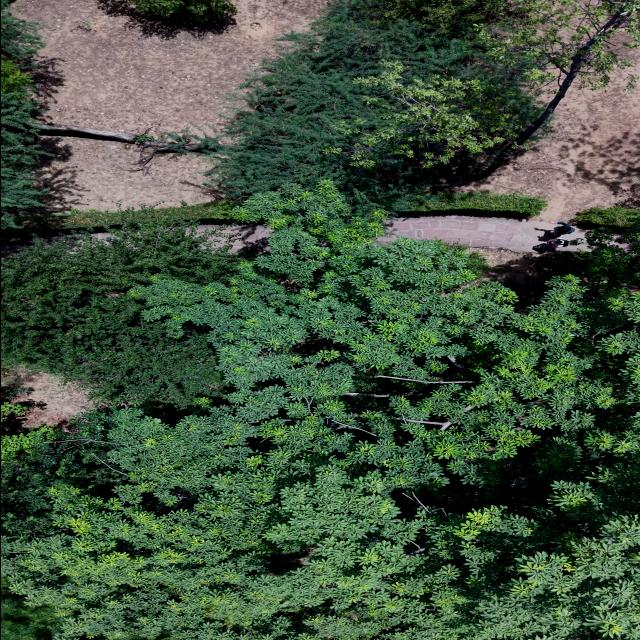DRY_AREA: (389, 51, 639, 308), (462, 50, 639, 309), (12, 0, 326, 133), (13, 0, 326, 133), (462, 50, 639, 220), (378, 212, 573, 303), (379, 213, 561, 310), (378, 214, 566, 307), (379, 215, 561, 310), (378, 215, 561, 309), (380, 216, 556, 308), (378, 215, 561, 303), (501, 92, 639, 207), (390, 217, 558, 308), (378, 215, 560, 299), (379, 213, 561, 266), (379, 213, 566, 257), (379, 215, 565, 256), (380, 215, 566, 256), (379, 216, 555, 256), (380, 216, 552, 251), (476, 248, 562, 310), (1, 370, 93, 427), (233, 0, 325, 39), (196, 224, 272, 254), (1, 232, 56, 259)
PATHWAYS: (379, 216, 565, 253)
VEGETATION_TREE: (1, 0, 639, 639), (1, 183, 639, 639), (4, 410, 638, 639), (3, 0, 638, 225), (1, 0, 627, 227), (135, 185, 633, 458), (201, 0, 635, 210), (209, 4, 531, 197), (1, 8, 203, 227), (389, 0, 638, 176), (1, 229, 239, 405), (322, 60, 532, 168), (1, 409, 121, 539), (1, 411, 119, 539), (477, 0, 639, 93), (228, 180, 390, 247), (535, 205, 639, 294), (1, 427, 77, 536), (1, 426, 68, 536), (535, 227, 639, 294), (28, 201, 235, 231), (391, 188, 547, 219), (57, 202, 234, 229), (355, 0, 504, 32), (1, 593, 57, 639), (1, 427, 56, 473), (129, 0, 235, 22), (1, 428, 55, 463), (572, 205, 639, 227), (1, 430, 43, 463)
